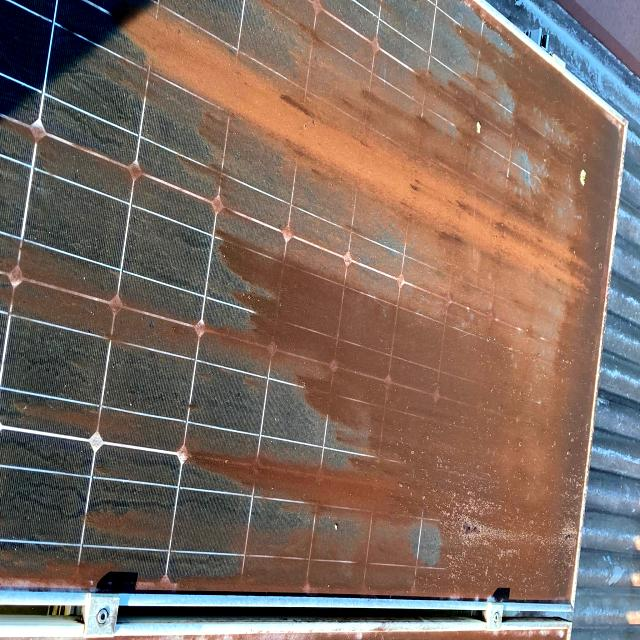dust: (274, 11, 504, 138), (222, 302, 432, 434), (443, 266, 598, 427), (202, 446, 417, 556), (432, 450, 584, 594), (0, 254, 221, 339), (308, 175, 504, 270), (0, 504, 184, 598), (116, 3, 245, 135), (504, 84, 601, 224), (16, 148, 191, 194)
